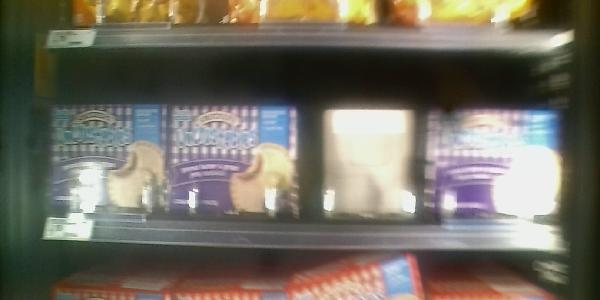icecream: (420, 102, 569, 229), (165, 100, 302, 221), (41, 99, 164, 216)
